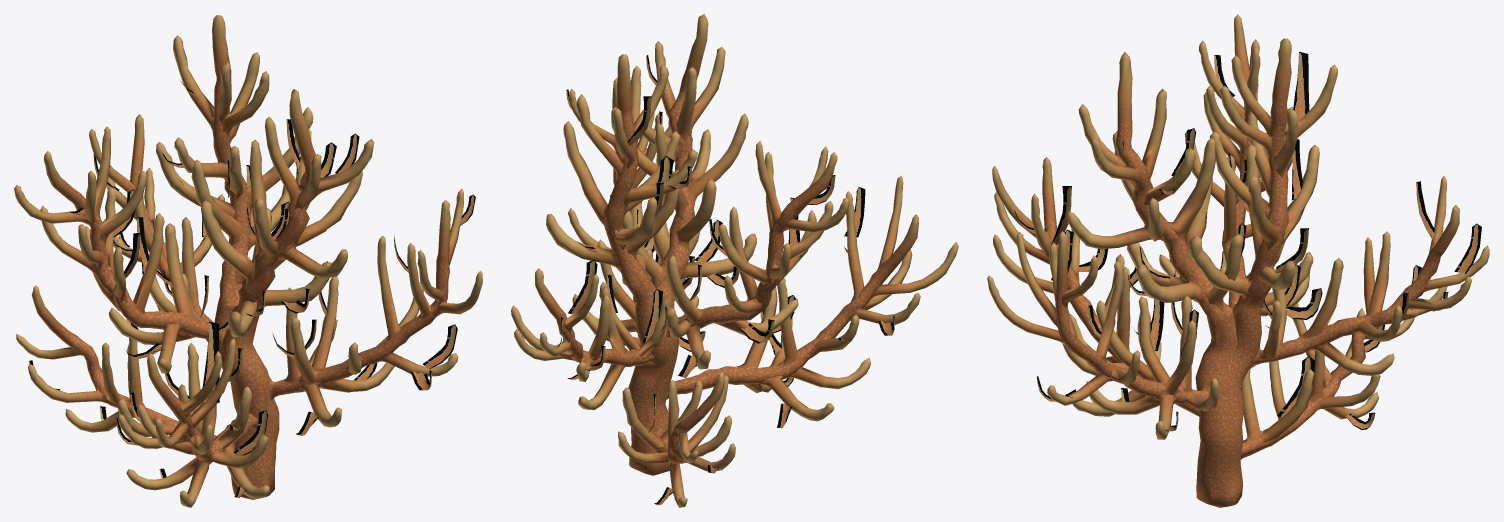
The model's file is Staghorn_02-transformed.glb.
3 renders of one model, left to right at view 1: azimuth 30°, elevation 25°; view 2: azimuth 150°, elevation 25°; view 3: azimuth 270°, elevation 25°, orthographic. The views are drawn at different scales.
Visible parts, largest first — view 1: Staghorn_02; view 2: Staghorn_02; view 3: Staghorn_02.
Boxes of the visible parts, box(x1,y1,x2,y2) form: Staghorn_02: box(14, 15, 482, 507); Staghorn_02: box(511, 14, 958, 507); Staghorn_02: box(987, 14, 1489, 507).
Bounding box in the file's own units: 15.94 × 18.73 × 18.2.
Materials: 1 (1 with a texture image).
